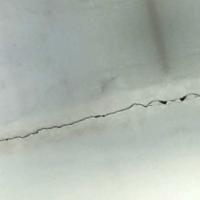crack: (0, 87, 199, 161)
